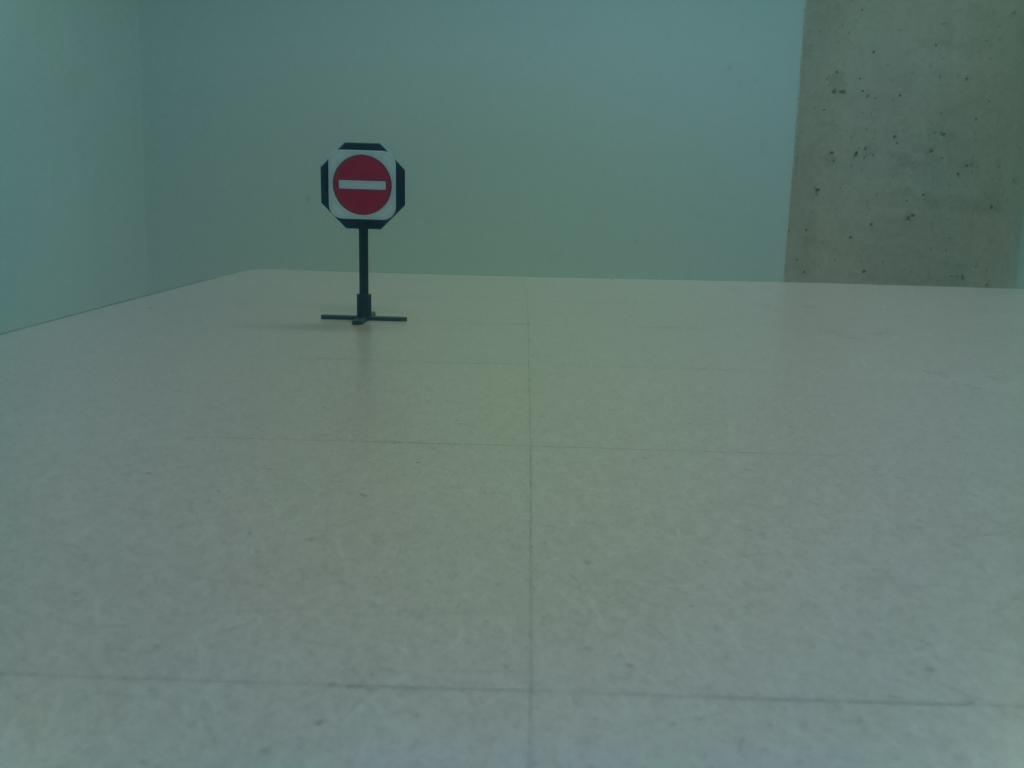sign_noentry: (313, 131, 413, 237)
